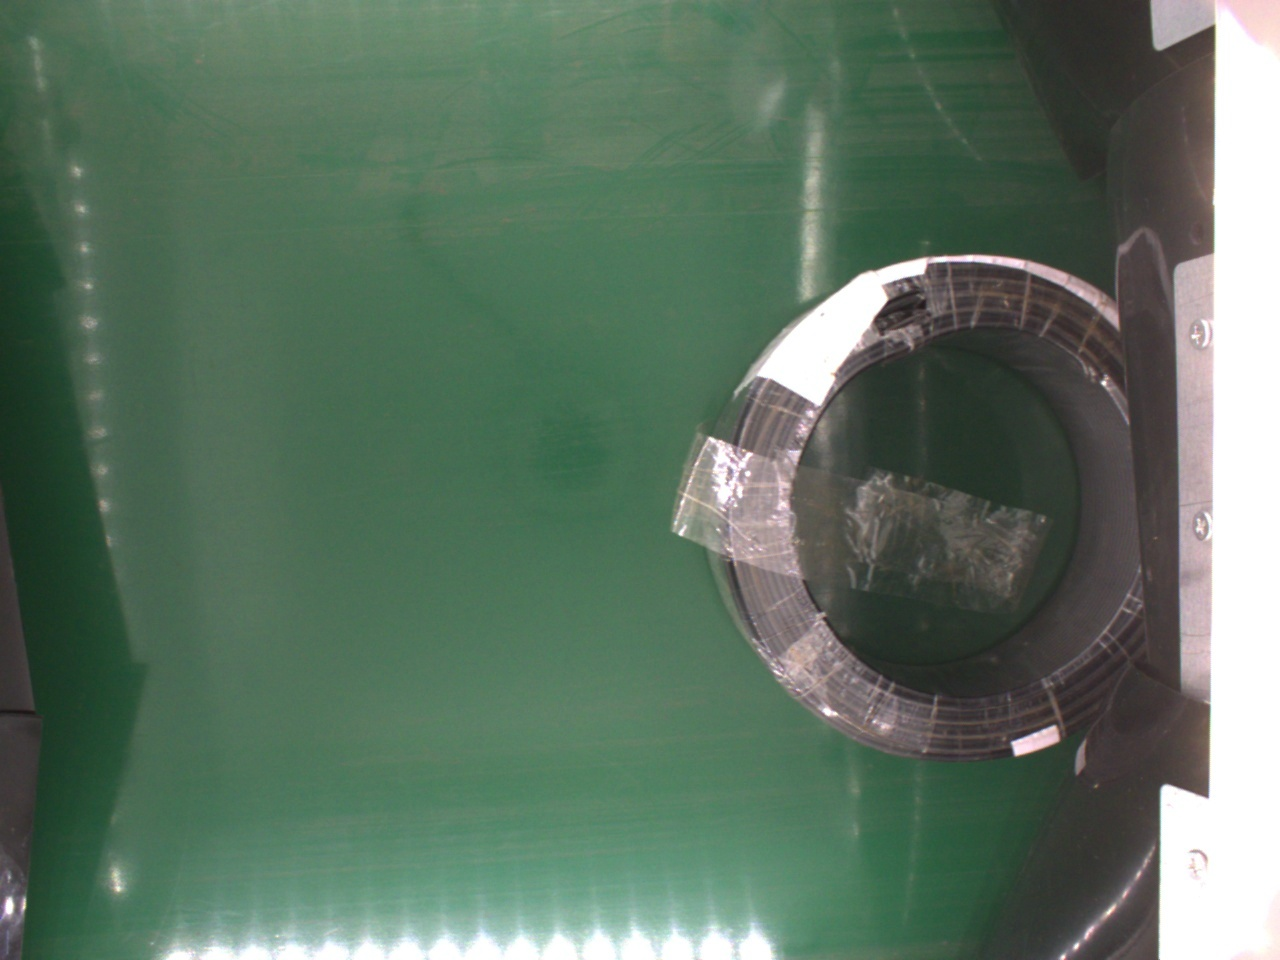black: (698, 250, 1165, 759)
